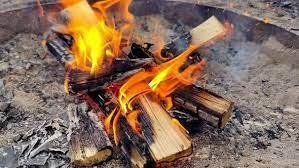fire: (27, 0, 231, 154)
